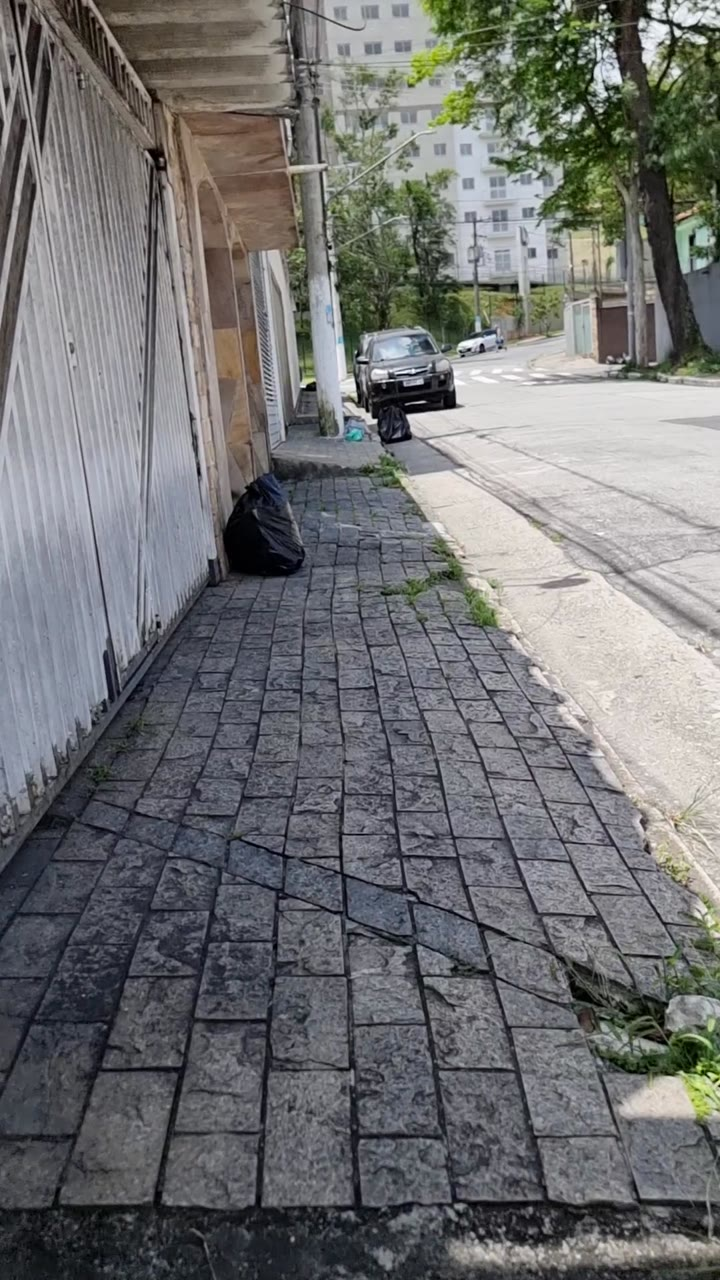desnivel: (252, 794, 706, 1126)
obstaculo: (288, 0, 338, 435), (224, 474, 304, 576)
